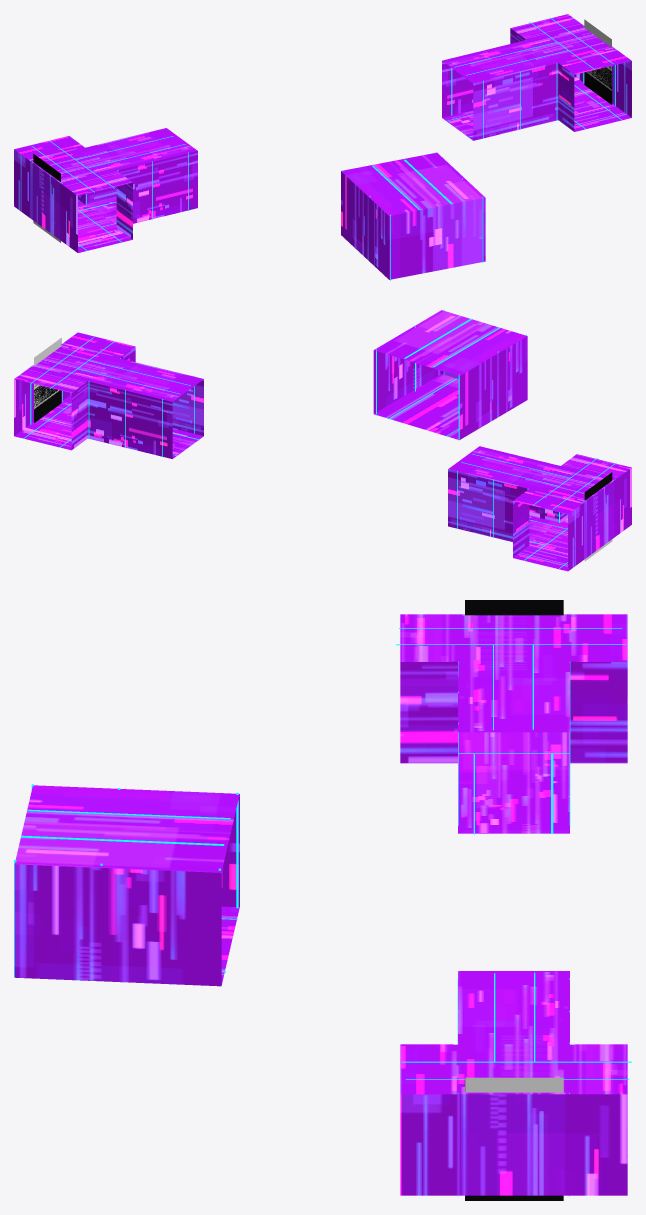
The model's file is OuterV1.fbx.
3 views of the same model, one above another, from view 1: azimuth 30°, elevation 25°; view 2: azimuth 150°, elevation 25°; view 3: azimuth 270°, elevation 25° (orthographic). The views are drawn at different scales.
Parts seen in each view (by area): view 1: Tunnel2, Names; view 2: Tunnel2, Names; view 3: Tunnel2, Names.
Part boxes in pixels (box(x1,y1,x2,y2)): Tunnel2: box(14, 14, 631, 280); Names: box(33, 19, 611, 242); Tunnel2: box(14, 309, 631, 571); Names: box(34, 338, 612, 561); Tunnel2: box(14, 613, 631, 1196); Names: box(465, 600, 563, 1200).
Bounding box in the file's own units: 4041 × 484 × 2198.
